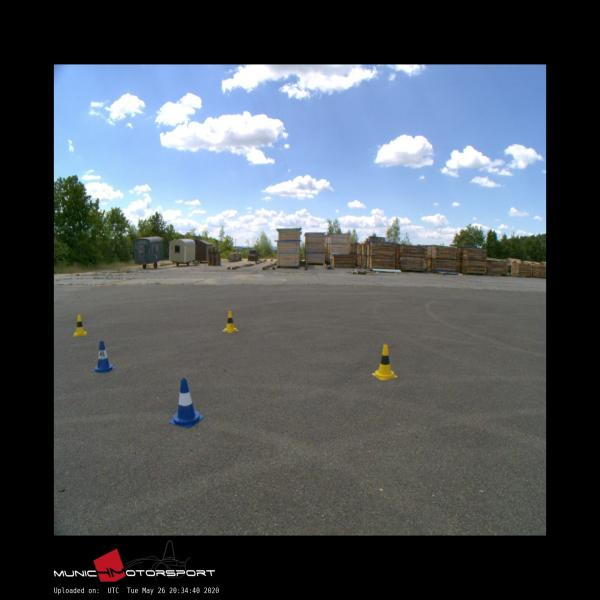blue_cone: (168, 378, 204, 427), (92, 340, 115, 372)
yellow_cone: (372, 344, 397, 379), (222, 311, 239, 332), (73, 315, 87, 336)
